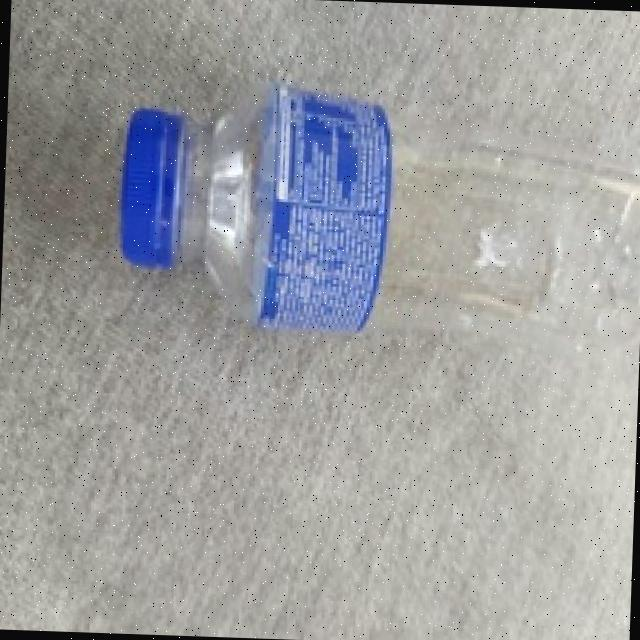bottle: (83, 71, 640, 359)
cap: (112, 100, 195, 276)
label: (248, 70, 402, 358)
